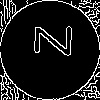Z: (25, 25, 72, 57)
